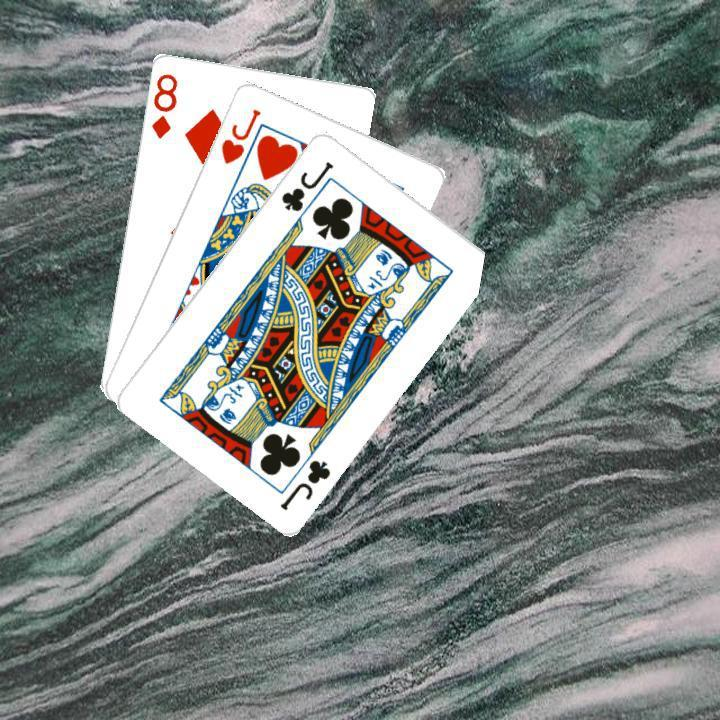8: (147, 68, 180, 141)
J: (276, 156, 336, 213), (275, 454, 333, 512), (216, 104, 263, 166)
